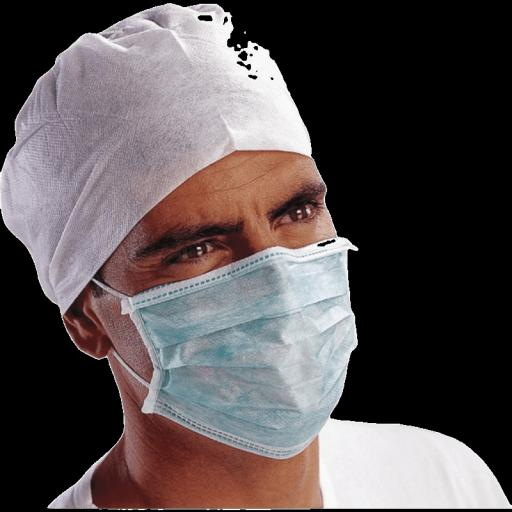mask: (132, 241, 388, 462)
